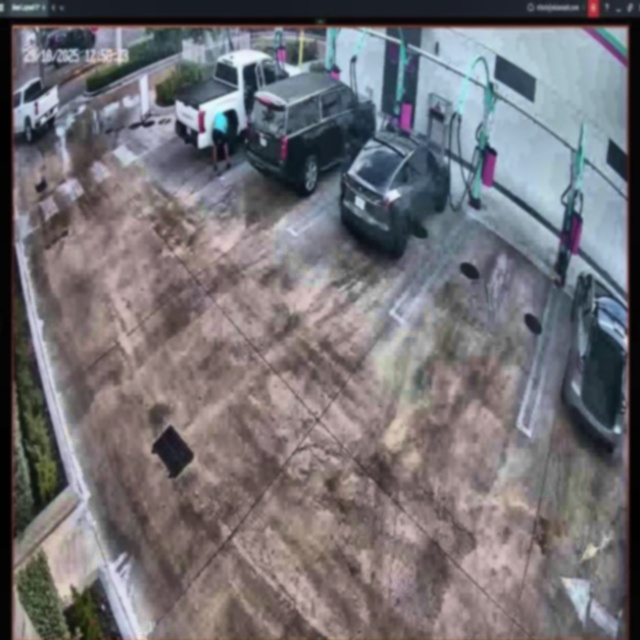Car: (343, 128, 452, 253), (250, 82, 375, 188), (176, 52, 305, 149)
